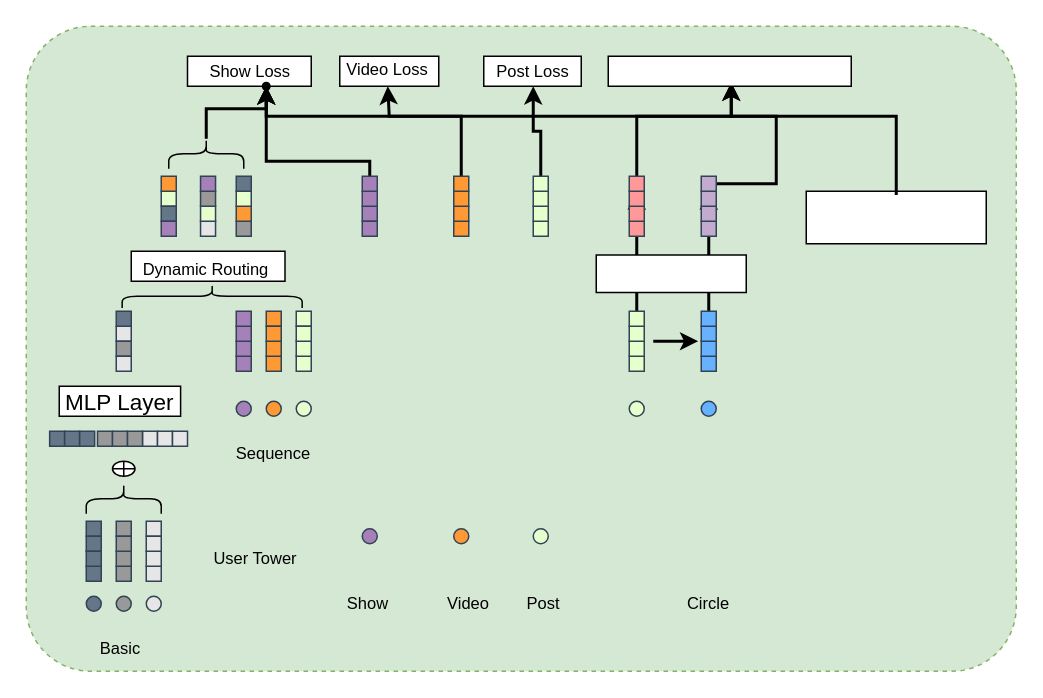
Image size: 1043x698. Some labels were removed from this diagram. The shapes that lost their labels are listed below. From the top down, each one's centre as x and y in pixels, then its label:
At (729,70): "Post-Circle Alignment Loss".
At (895,217): "Sample Generator".
At (670,273): "Relation Map".
